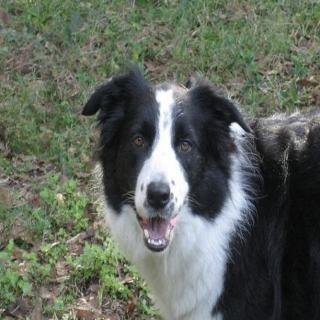dog: (72, 65, 241, 260)
nose: (144, 178, 173, 216)
